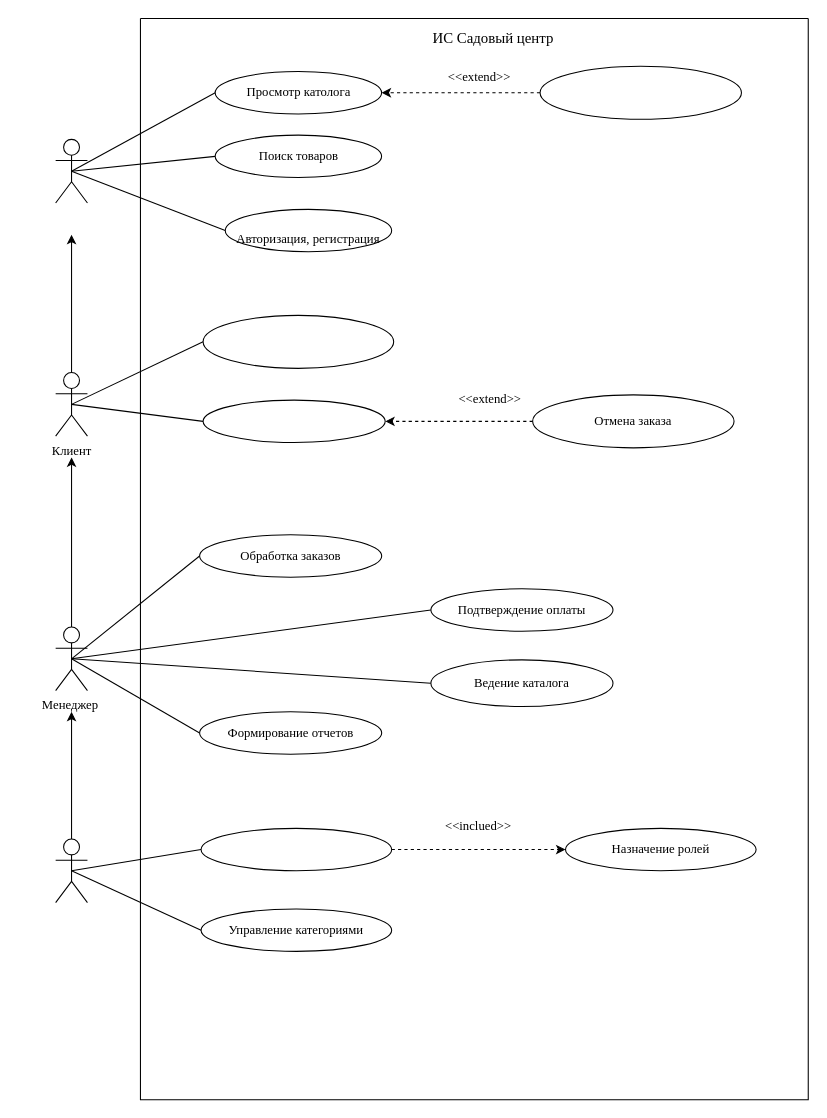
Image size: 827x1118. Some labels were removed from this diagram. Each missing label, with the box of its shape:
Администратор: (55, 838, 87, 903)
Неавторизованный пользователь: (55, 138, 87, 203)
Оформление заказа: (202, 399, 385, 443)
Просмотр своих заказов: (202, 314, 394, 368)
Управление пользователями: (200, 827, 392, 871)
Фильтрация по категориям: (539, 65, 741, 119)
